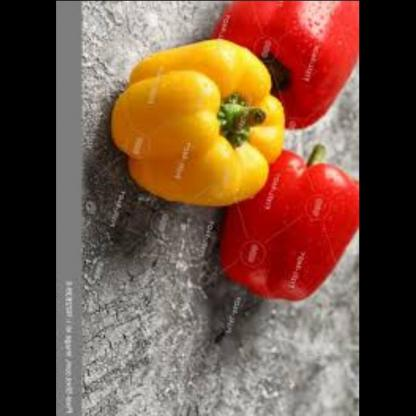bell pepper: (109, 37, 293, 207), (215, 144, 360, 305), (209, 1, 360, 129)
